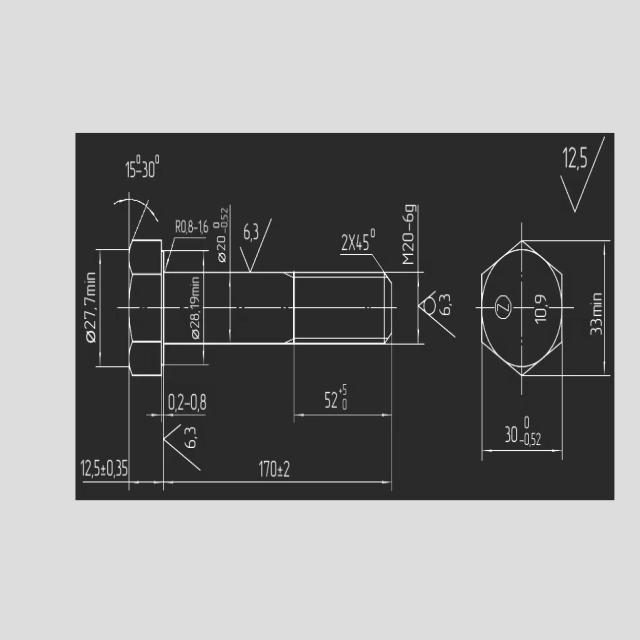marking_line: (114, 192, 163, 238), (165, 478, 390, 488), (95, 250, 104, 366), (292, 412, 393, 421), (479, 445, 561, 455), (602, 240, 608, 376), (148, 411, 207, 422), (83, 480, 128, 488), (130, 478, 165, 488)
numeric: (559, 142, 591, 174), (81, 457, 128, 478), (165, 394, 213, 414), (256, 457, 294, 478), (340, 230, 371, 252), (399, 230, 415, 269), (82, 295, 98, 330), (173, 218, 210, 233), (217, 208, 228, 251), (189, 295, 201, 330), (501, 422, 521, 443), (182, 424, 197, 451), (587, 316, 603, 339), (243, 224, 263, 241), (521, 433, 545, 446), (122, 160, 137, 179), (142, 161, 156, 179)
special_symbol: (163, 423, 183, 469), (419, 286, 437, 331), (493, 294, 514, 323), (85, 329, 98, 347), (522, 415, 532, 431), (217, 251, 229, 264), (210, 219, 220, 230), (369, 227, 378, 239), (134, 154, 142, 164), (155, 153, 162, 164)
